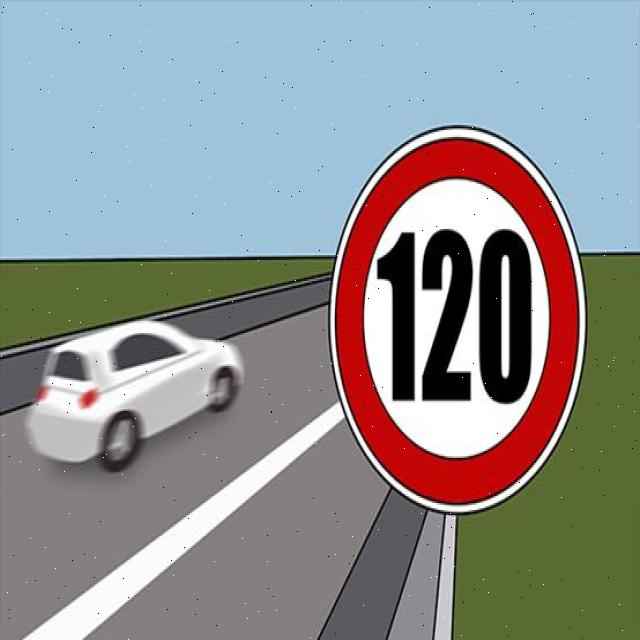speed limit 120: (327, 125, 587, 516)
